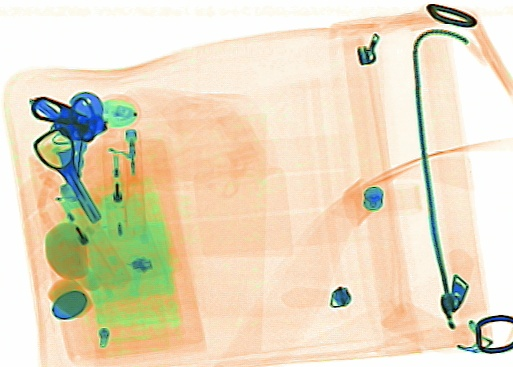lighter: (49, 184, 132, 288), (103, 128, 141, 241)
